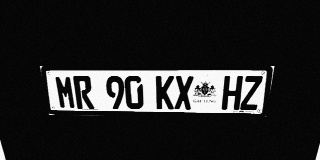0: (124, 76, 144, 109)
9: (105, 76, 126, 109)
H: (221, 76, 243, 110)
K: (156, 76, 174, 109)
M: (54, 76, 77, 109)
R: (73, 76, 94, 109)
X: (174, 76, 194, 110)
Z: (240, 76, 263, 110)
